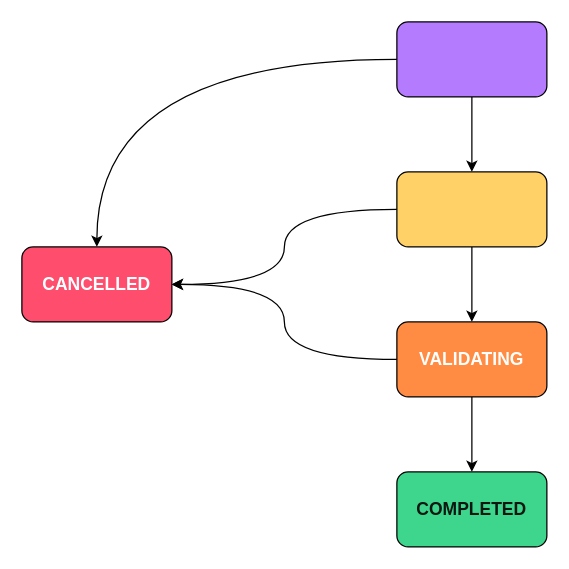
The diagram is 569 pixels wide and 569 high, and some of its shapes have lost their labels. The centre of each missing label's shape, as x and y in pixels:
"IN PROGRESS" goes at point (471, 209).
"PENDING" goes at point (471, 59).
